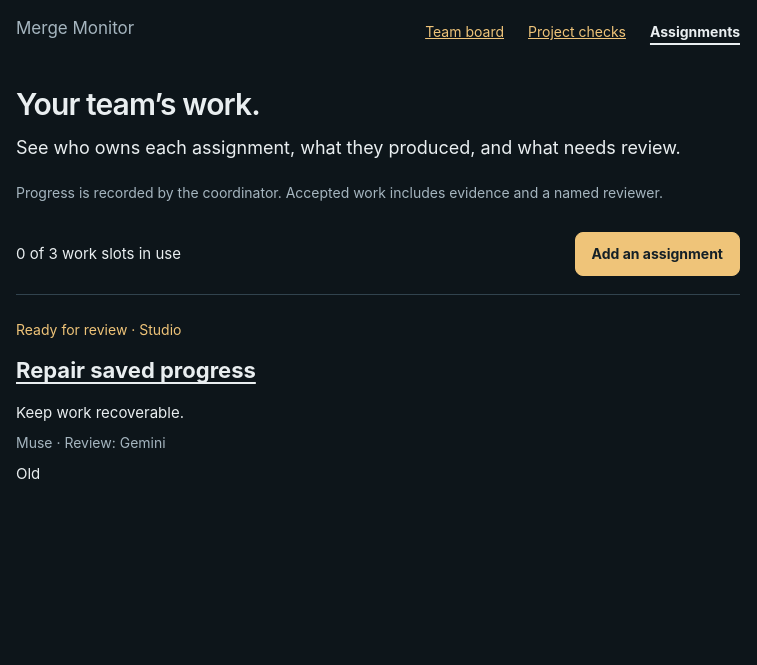
Test: unlocks background refresh after blurring an untouched assignment form, filters reviewers case-insensitively, and syncs untouched TaskContextEditor
Later steps or results of the test are not shown.
Click the button "Repair saved progress". click: (136, 371)
box: [16, 348, 256, 393]
(page scrolled)
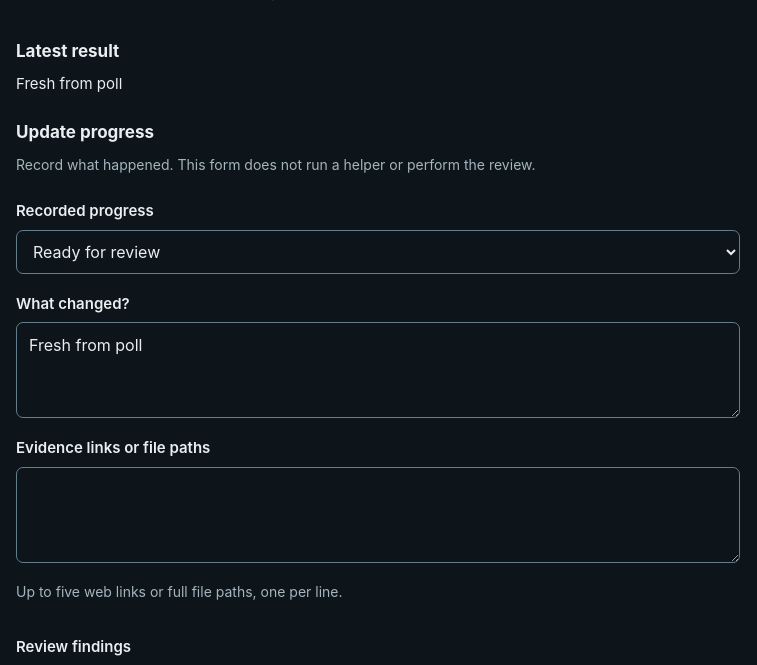
Expected: the text box labelled "What changed?" holds "Fresh from poll", [16, 322, 740, 418]
